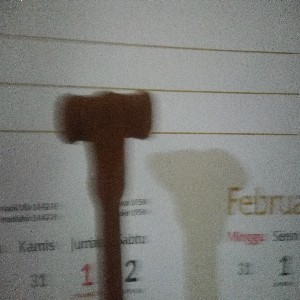palu: (52, 89, 153, 300)
